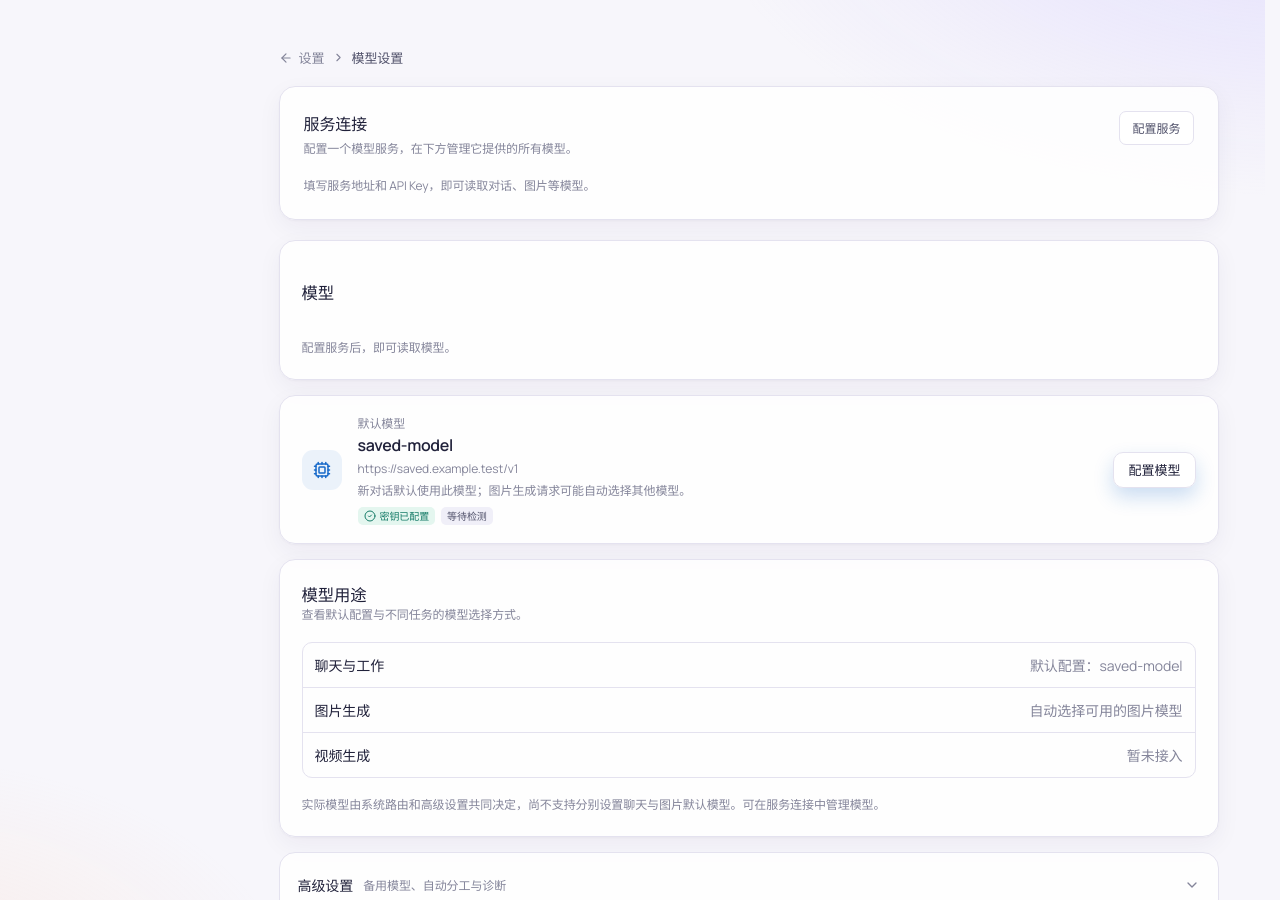
Test case: App model settings › unlocks saved fields while connection diagnostics are still running
The width and height of the screenshot is (1280, 900).
Click the button "配置模型": (1154, 470) [1114,452,1196,488]
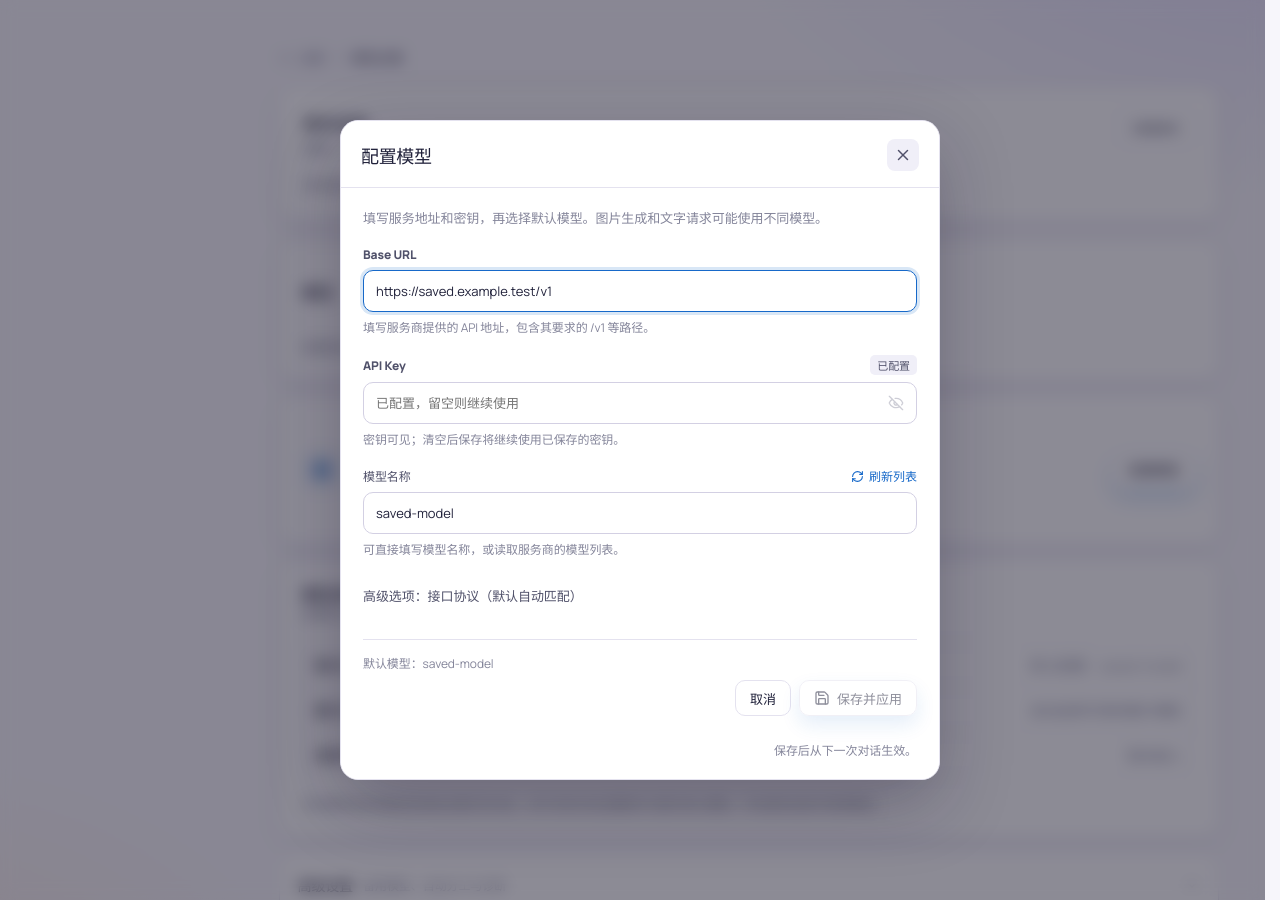
Replace the text in the field labelled "模型名称" with "new-model": (640, 513) [363,492,917,534]
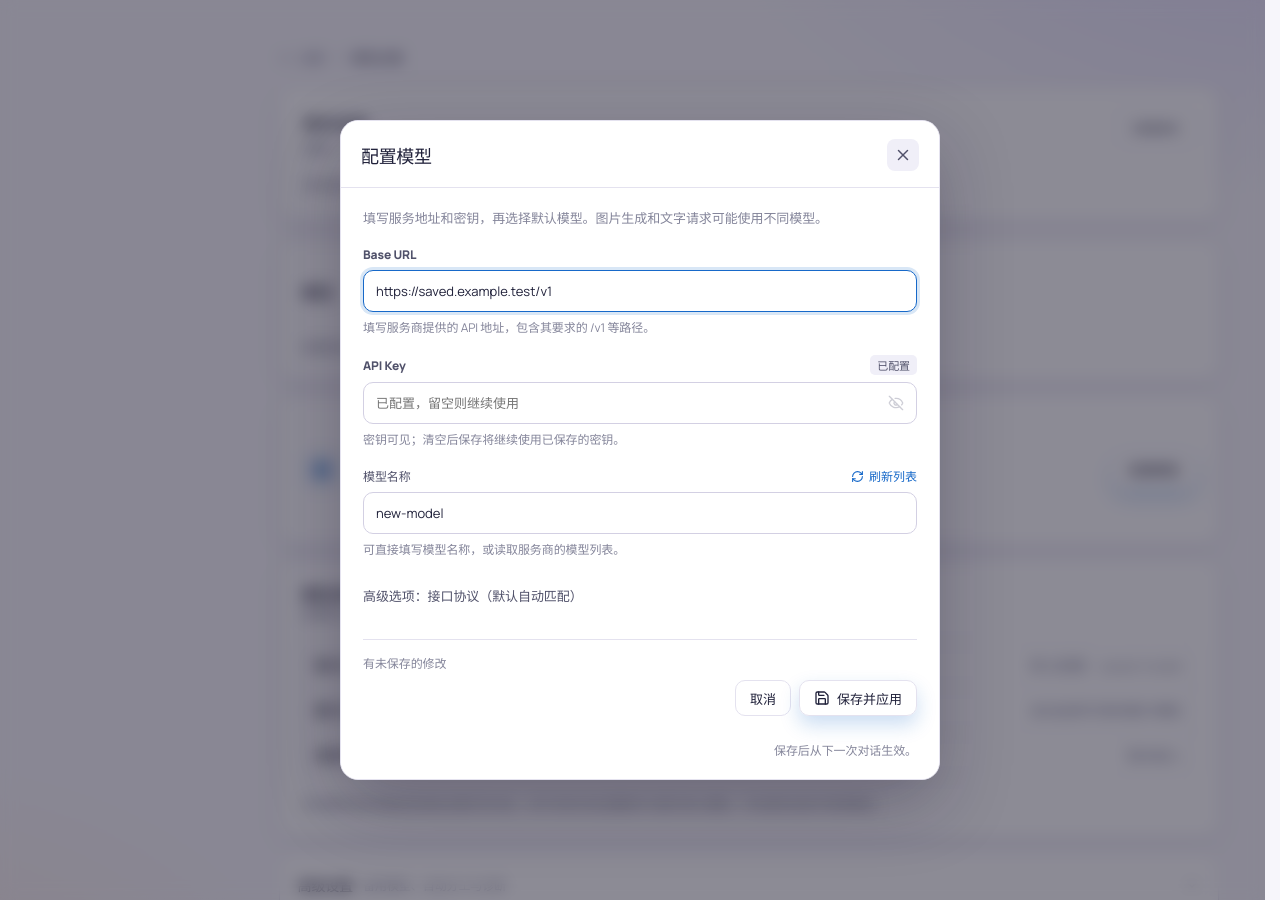
Click the button "保存并应用": (858, 698) [799,680,917,716]
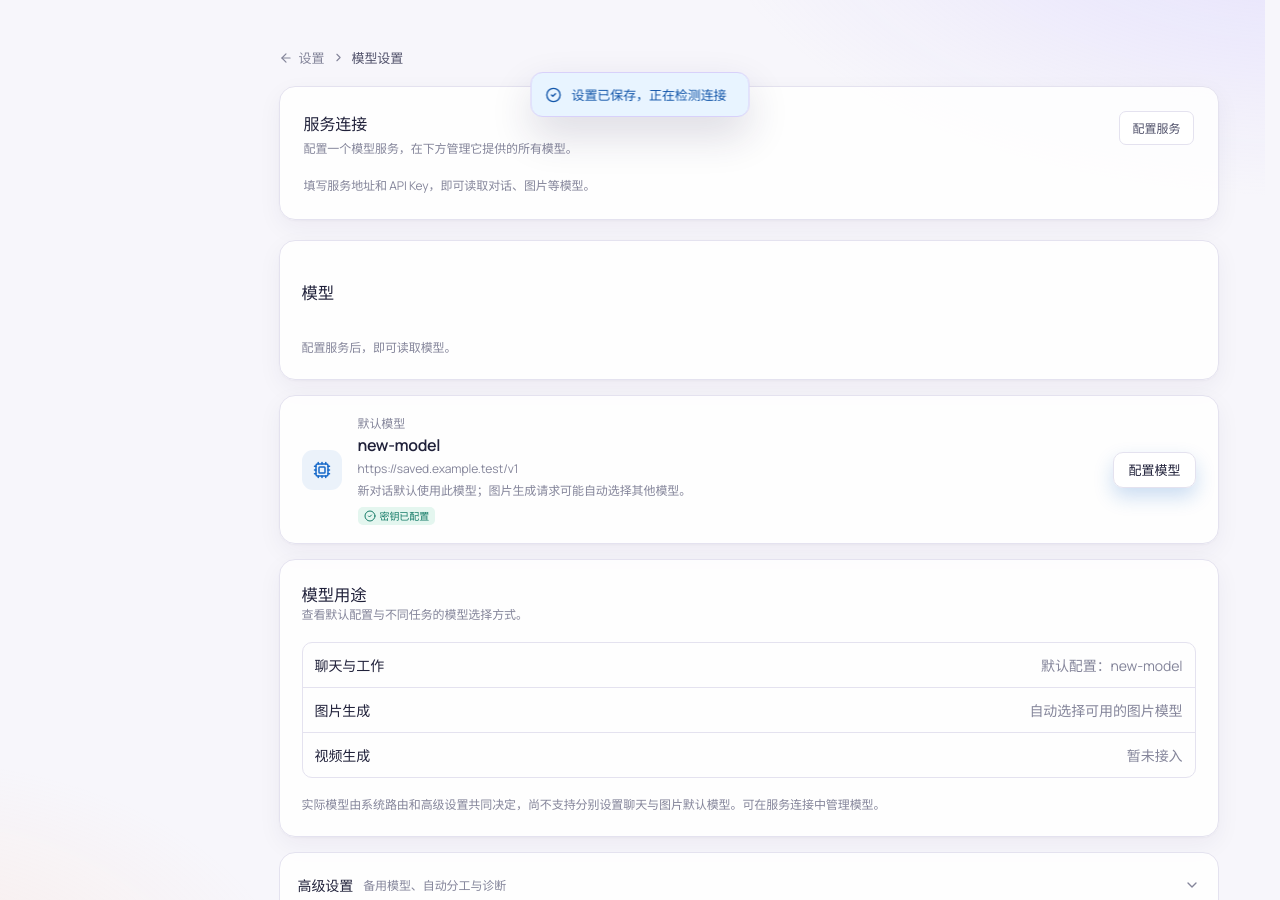
Expected: the text "设置已保存，正在检测连接" is shown, [572,85,726,104]
Click the button "配置模型": (1154, 470) [1114,452,1196,488]
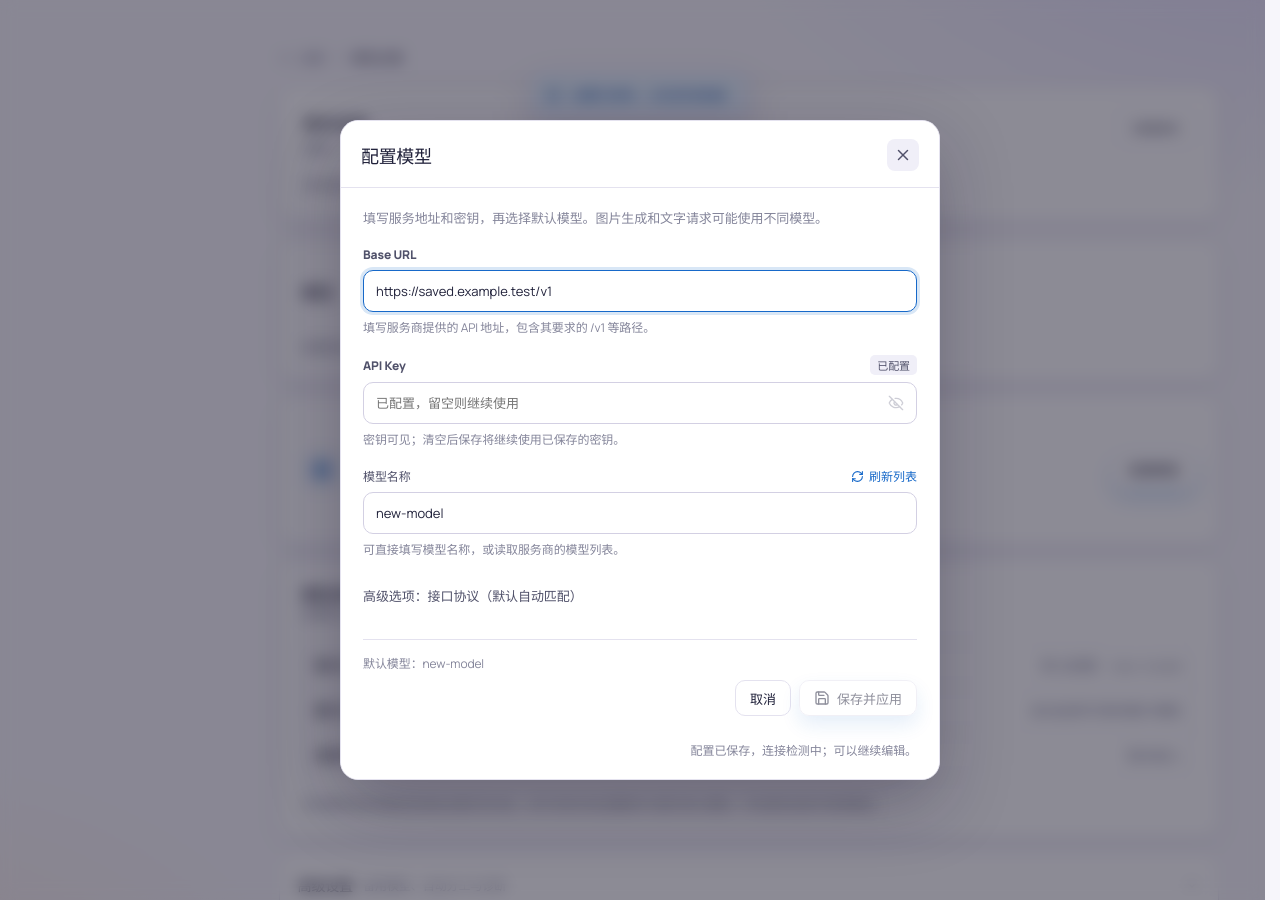
Expected: the field labelled "模型名称" is enabled
Expected: the field labelled "API Key" is enabled, [363,382,917,424]
Replace the text in the field labelled "模型名称" with "another-model": (640, 513) [363,492,917,534]
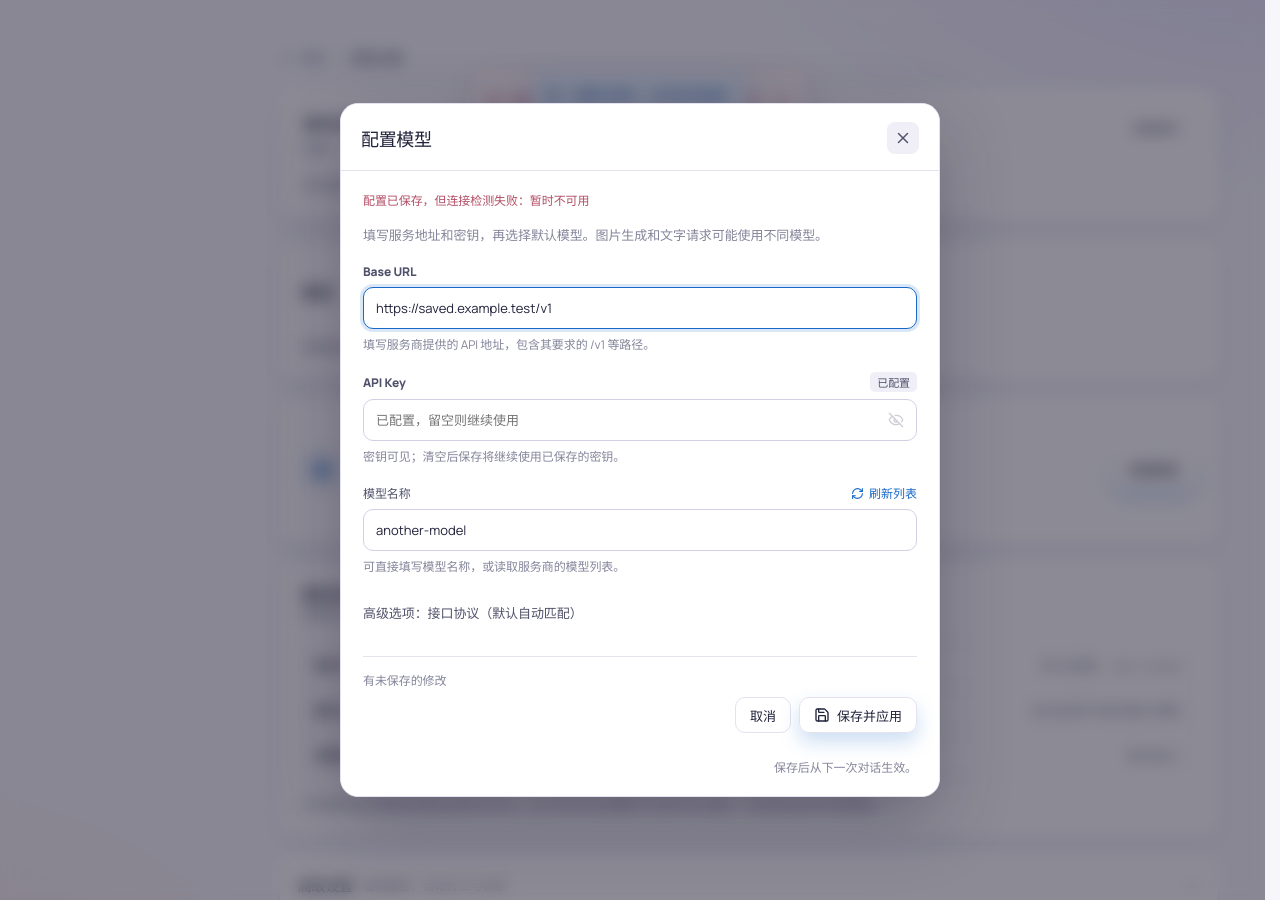
Expected: the button "保存并应用" is enabled, [799,697,917,733]
Expected: the text "配置已保存，但连接检测失败：暂时不可用" is shown, [512,90,758,108]
